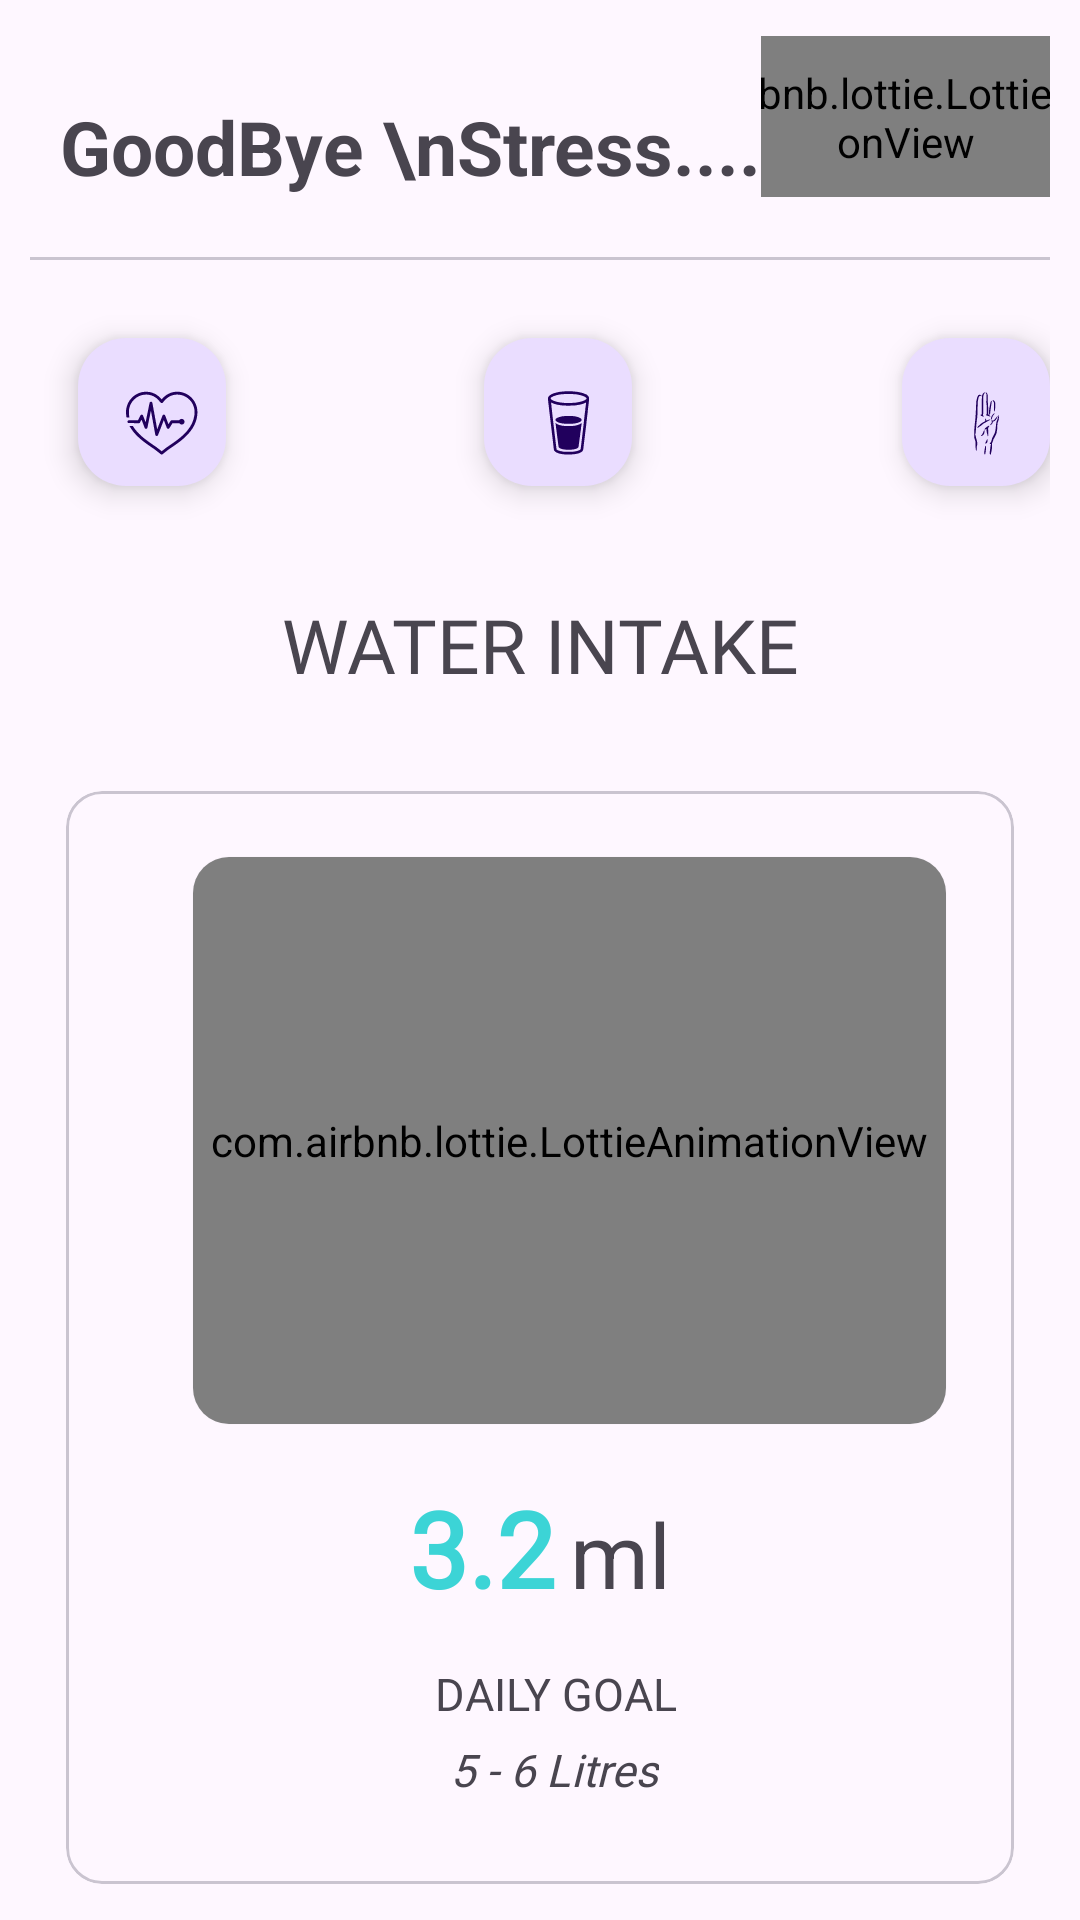

Screen size 1080*1920. Icon name, then its center in pixels as [x,y]:
heart: [152,412]
mudras: [976,412]
